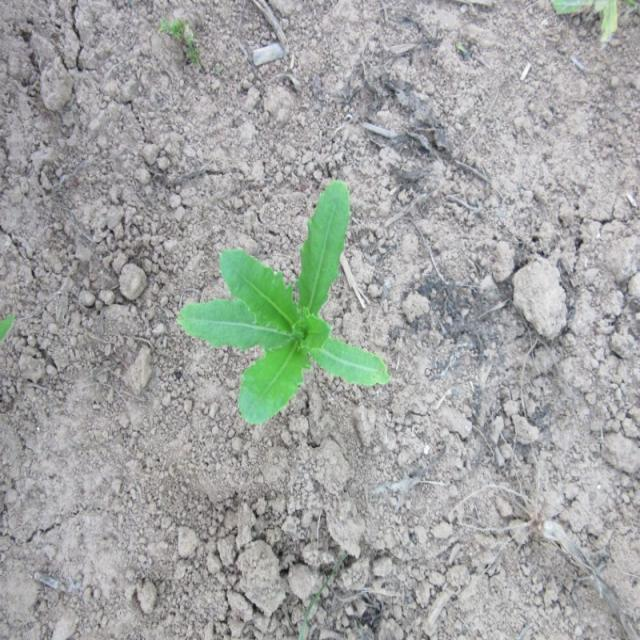cs: (180, 179, 393, 429)
